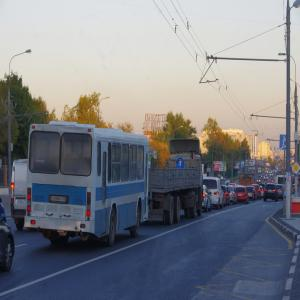Vehicle-registration-plate: (50, 194, 69, 204), (53, 198, 67, 204)
